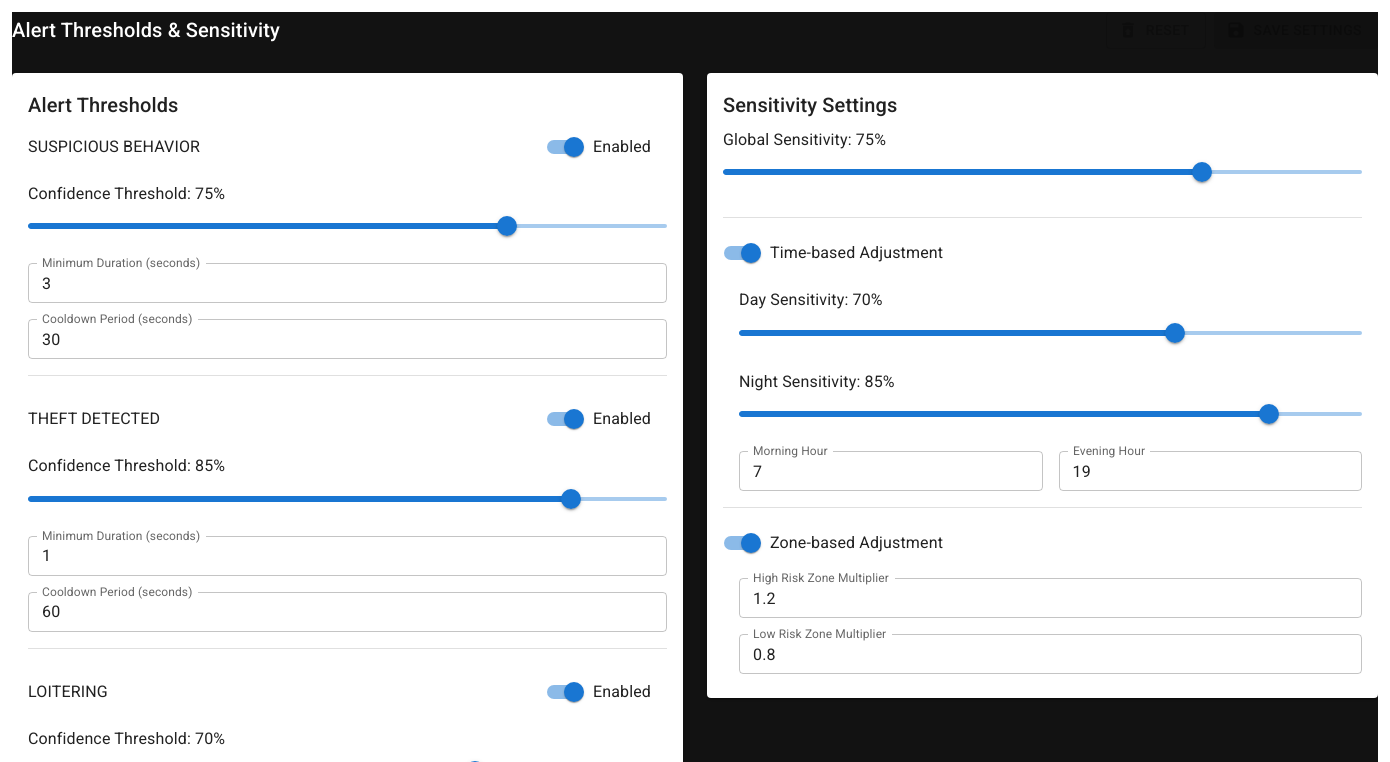
AlertSettings Component › can adjust confidence threshold
Set the 2nd slider to "80": point(507, 226) [497,216,517,236]
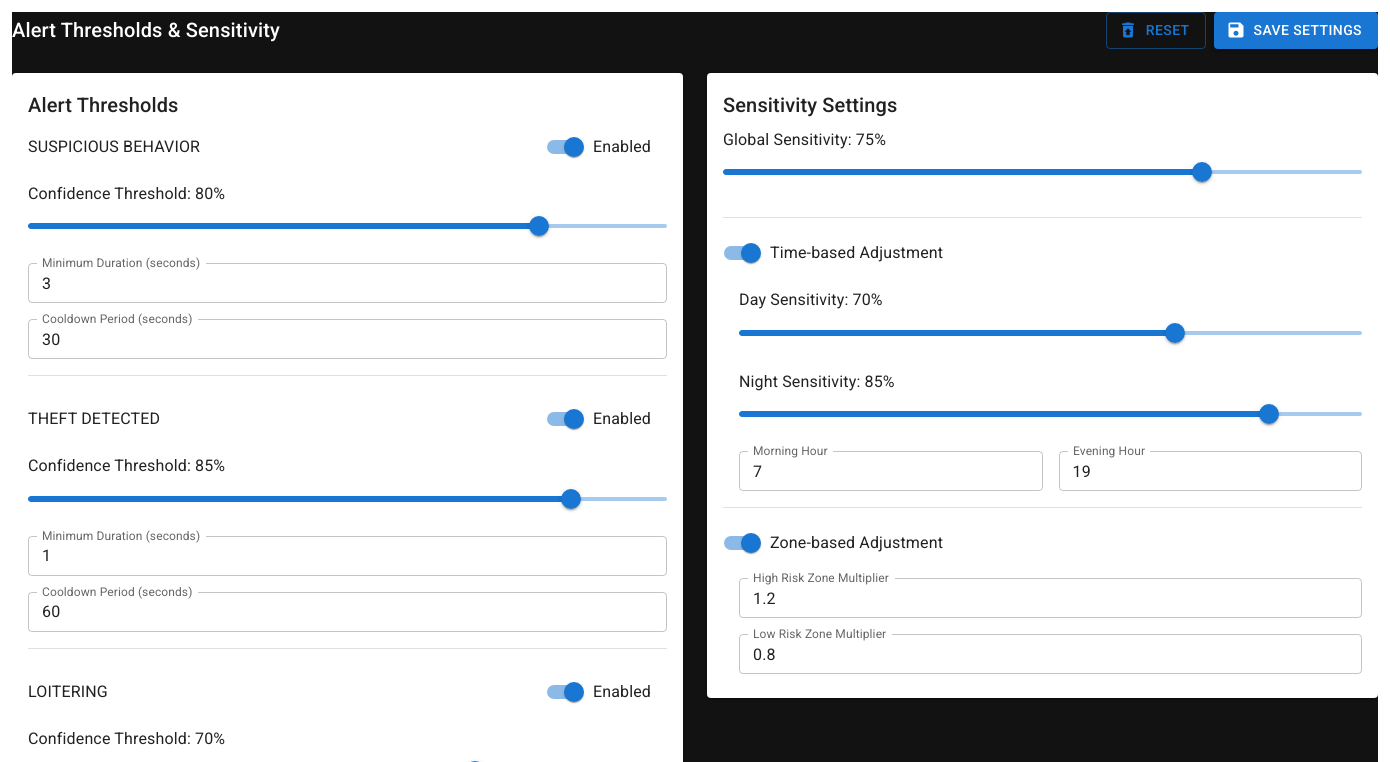
Expected: the text "Confidence Threshold: 80%" is shown, [28,184,225,202]
